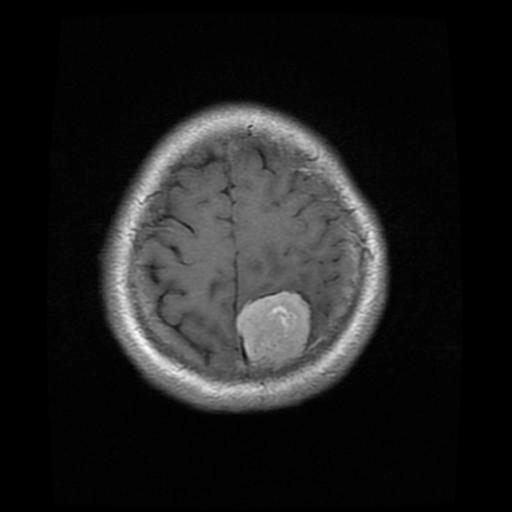Tumour-Pituitary: (220, 277, 321, 390)
